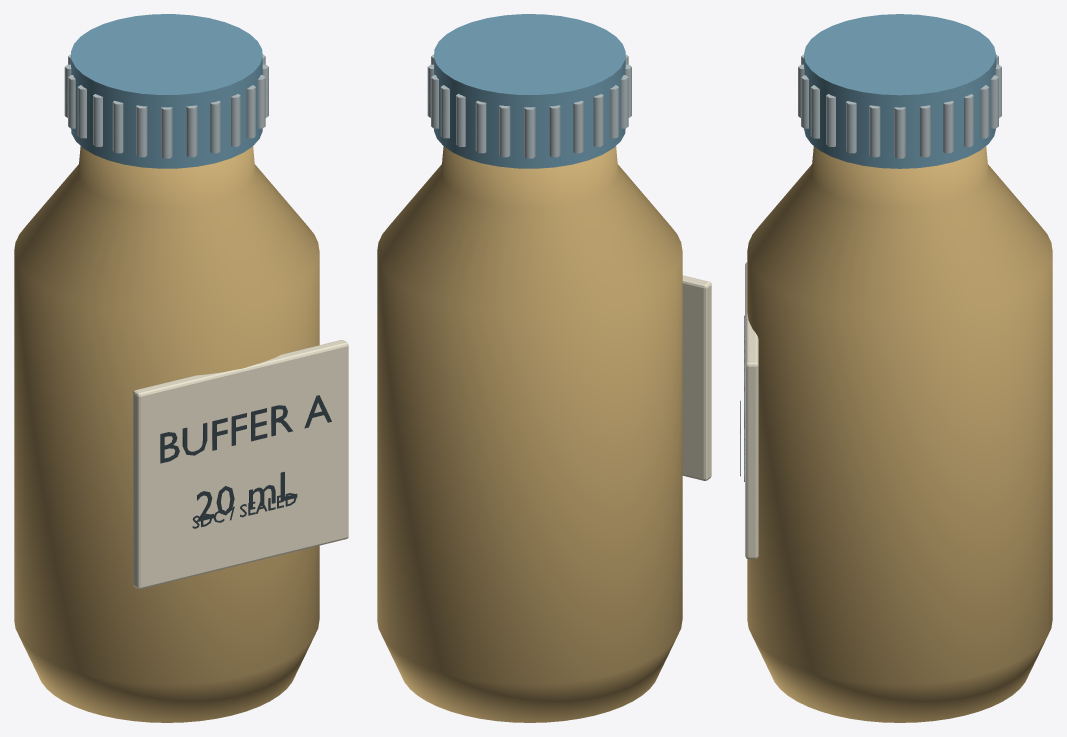
File: loot_medical_vial.glb
The picture shows the model from 3 angles, left to right: view 1: azimuth 30°, elevation 25°; view 2: azimuth 150°, elevation 25°; view 3: azimuth 270°, elevation 25°; orthographic projection.
Parts seen in each view (by area): view 1: loot_medical_vial; view 2: loot_medical_vial; view 3: loot_medical_vial.
Boxes of the visible parts, x1,y1,x2,y2 form: loot_medical_vial: (14, 14, 348, 722); loot_medical_vial: (377, 14, 711, 722); loot_medical_vial: (740, 14, 1052, 722).
Bounding box in the file's own units: 0.046 × 0.102 × 0.0471.
